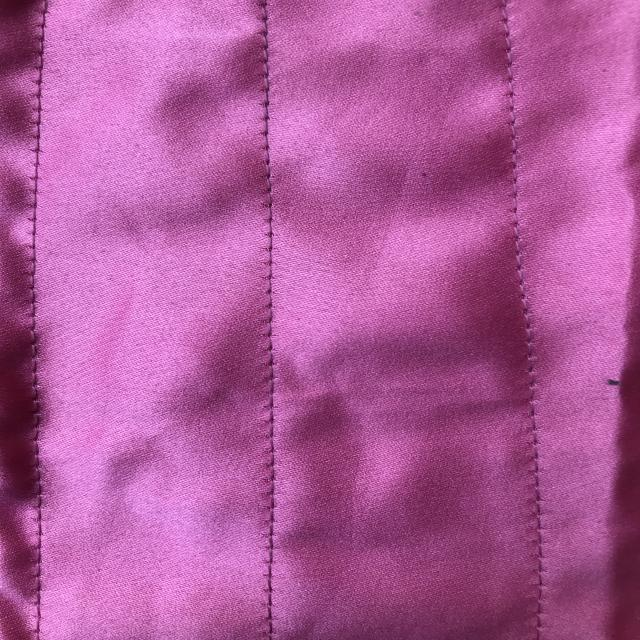good: (497, 156, 556, 416), (240, 220, 292, 484)
